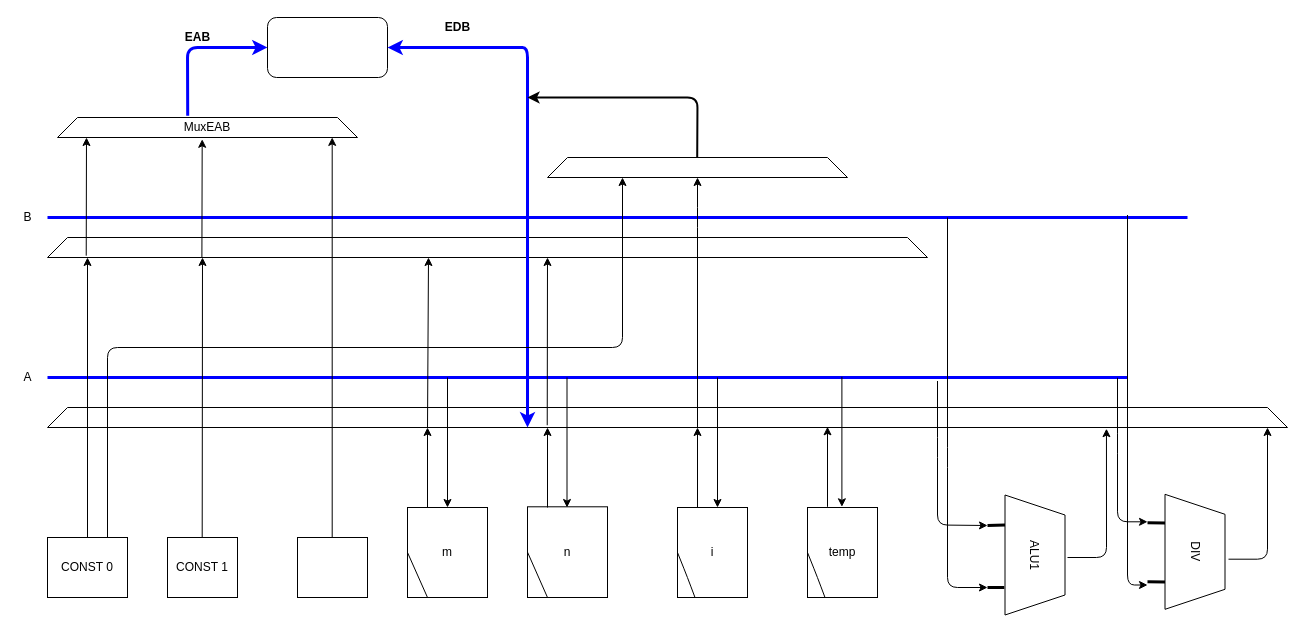
Image size: 1305x633. Some labels were removed from this diagram. Here are the shapes that lost their labels. From the top down, the centre of each, then its label:
At pixel 327 47: "MEMORY".
At pixel 697 167: "MuxEDB".
At pixel 487 247: "Mux B".
At pixel 667 417: "Mux A".
At pixel 332 567: "CONST 2".
